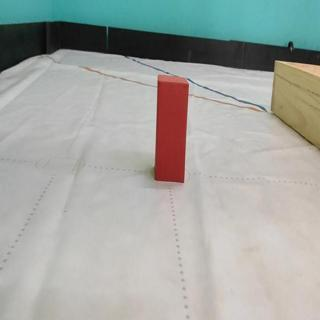redbox: (155, 73, 190, 183)
